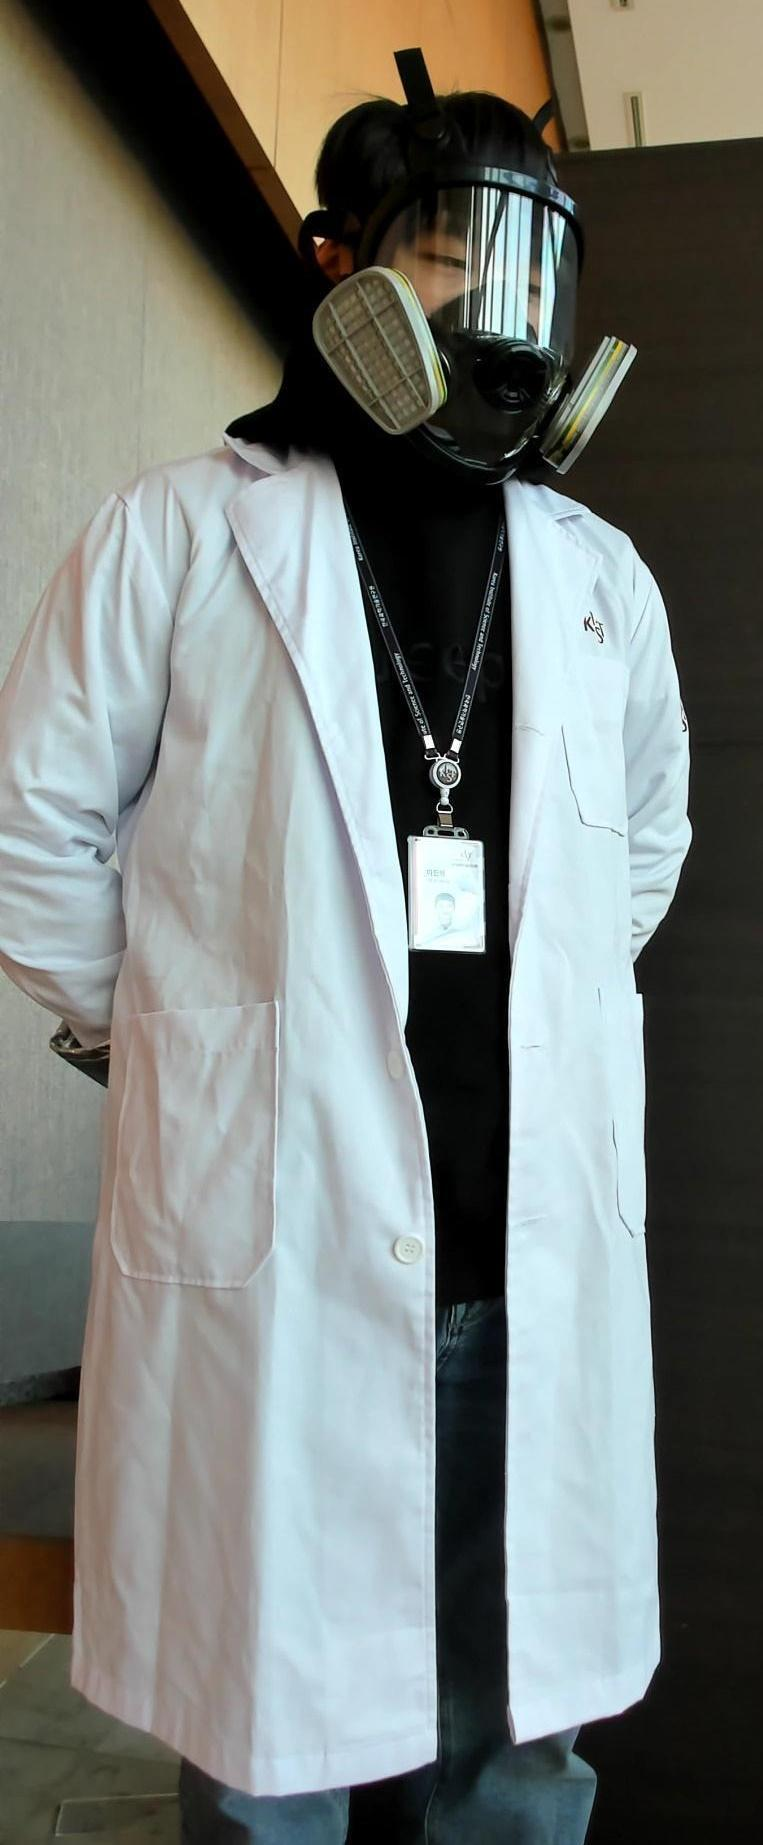lab_coat: (0, 481, 696, 1726)
